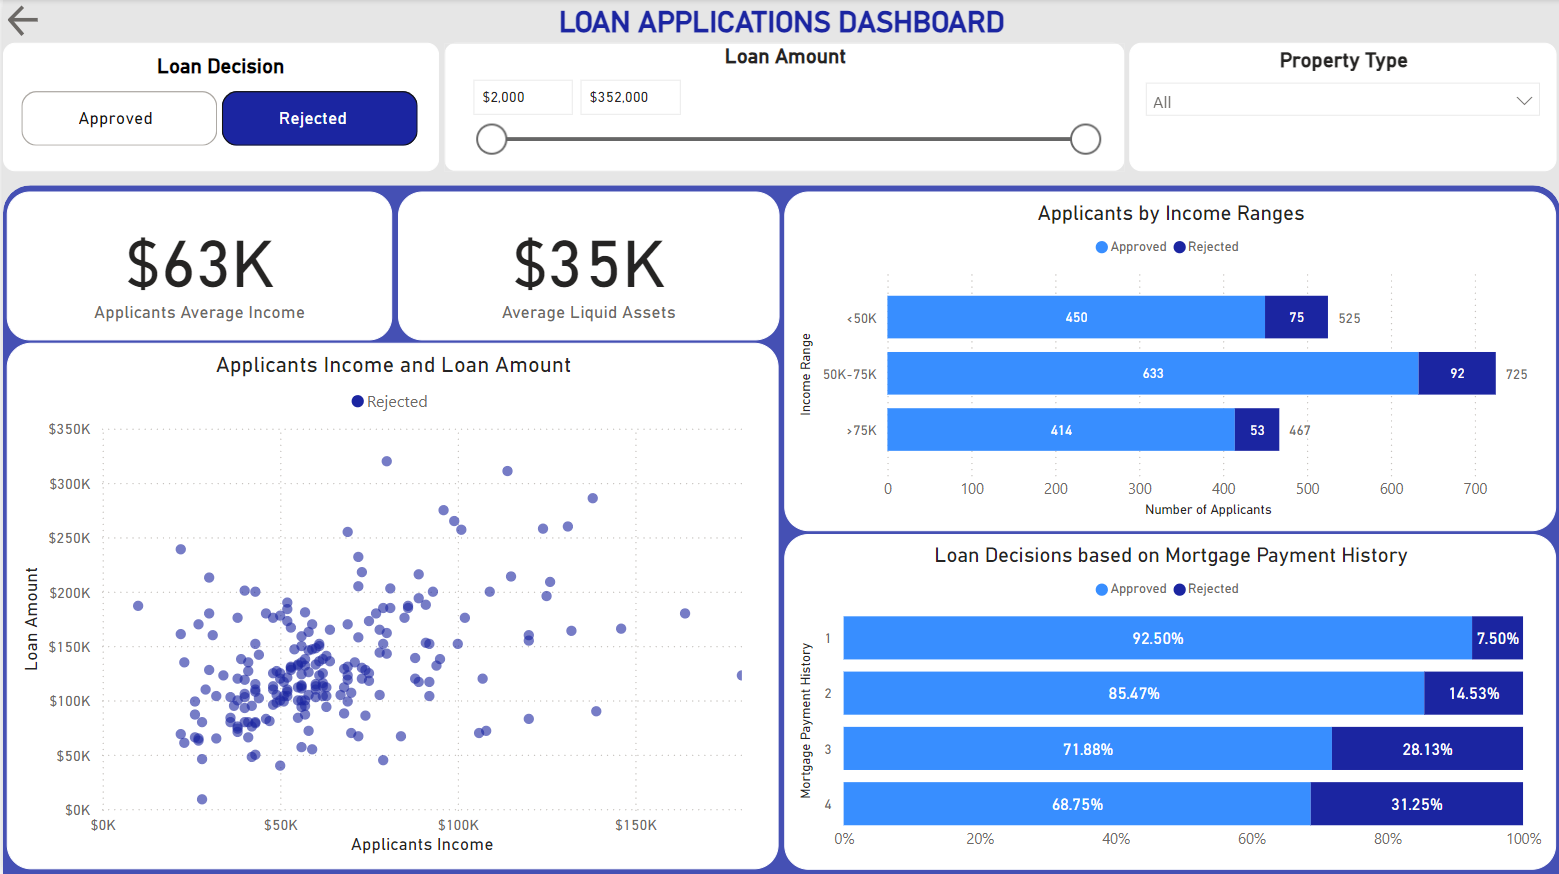

Layout of this report page (visuals, bound fields, positions):
{"tool":"powerbi","page":{"name":"Page 2","canvas":[1280,720],"ordinal":1},"visuals":[{"type":"shape","box":[0,153.5,1280.2,566.3],"z":0},{"type":"textbox","box":[0,36,358.1,105.8],"z":1000},{"type":"slicer","title":"Loan Amount","fields":{"Values":["loan_applications_BI.loan_amount_thousand"]},"box":[362.8,36,559.3,105.8],"z":2000},{"type":"slicer","title":"Property Type","fields":{"Values":["loan_applications_BI.property_type"]},"box":[925.6,36,351.2,105.8],"z":3000},{"type":"textbox","box":[0,0,1280.2,46.5],"z":4000},{"type":"advancedSlicerVisual","title":"Loan Decision:","fields":{"Values":["loan_applications_BI.decision_label"]},"box":[3.5,64,350,69.8],"z":5000},{"type":"barChart","title":"Applicants by Income Ranges","fields":{"Y":["CountNonNull(loan_applications_BI.applicant_income_range)"],"Series":["loan_applications_BI.decision_label"],"Category":["income_range_order.income_range"]},"box":[642.5,158,634.2,279.4],"z":6000},{"type":"card","fields":{"Values":["Avg(loan_applications_BI.applicant_income_thousand)"]},"box":[3.5,158,317.1,122.6],"z":7000},{"type":"card","fields":{"Values":["Avg(loan_applications_BI.liquid_assets_thousand)"]},"box":[324.2,158,313.6,122.6],"z":8000},{"type":"scatterChart","title":"Applicants Income and Loan Amount","fields":{"Y":["loan_applications_BI.loan_amount_thousand"],"X":["loan_applications_BI.applicant_income_thousand"],"Series":["loan_applications_BI.decision_label"]},"box":[3.5,282.9,634.2,432.6],"z":9000},{"type":"hundredPercentStackedBarChart","title":"Loan Decisions based on Mortgage Payment History","fields":{"Series":["loan_applications_BI.decision_label"],"Y":["CountNonNull(loan_applications_BI.decision_label)"],"Category":["loan_applications_BI.mortage_payment_history"]},"box":[642.5,439.7,634.2,275.9],"z":10000},{"type":"actionButton","box":[0,0,34.2,36.5],"z":10501}]}

Visuals, with their boxes in screenshot pixels (x1, y1, x2, y2), scaled from the page's 1280x720 canvas onto the 1559x874 screenshot:
shape: crop(0, 186, 1558, 873)
textbox: crop(0, 44, 436, 172)
"Loan Amount" slicer: crop(442, 44, 1123, 172)
"Property Type" slicer: crop(1127, 44, 1555, 172)
textbox: crop(0, 0, 1558, 56)
"Loan Decision:" advancedSlicerVisual: crop(4, 78, 431, 162)
"Applicants by Income Ranges" barChart: crop(783, 192, 1555, 531)
card - Avg(loan_applications_BI.applicant_income_thousand): crop(4, 192, 390, 341)
card - Avg(loan_applications_BI.liquid_assets_thousand): crop(395, 192, 777, 341)
"Applicants Income and Loan Amount" scatterChart: crop(4, 343, 777, 869)
"Loan Decisions based on Mortgage Payment History" hundredPercentStackedBarChart: crop(783, 534, 1555, 869)
actionButton: crop(0, 0, 42, 44)
